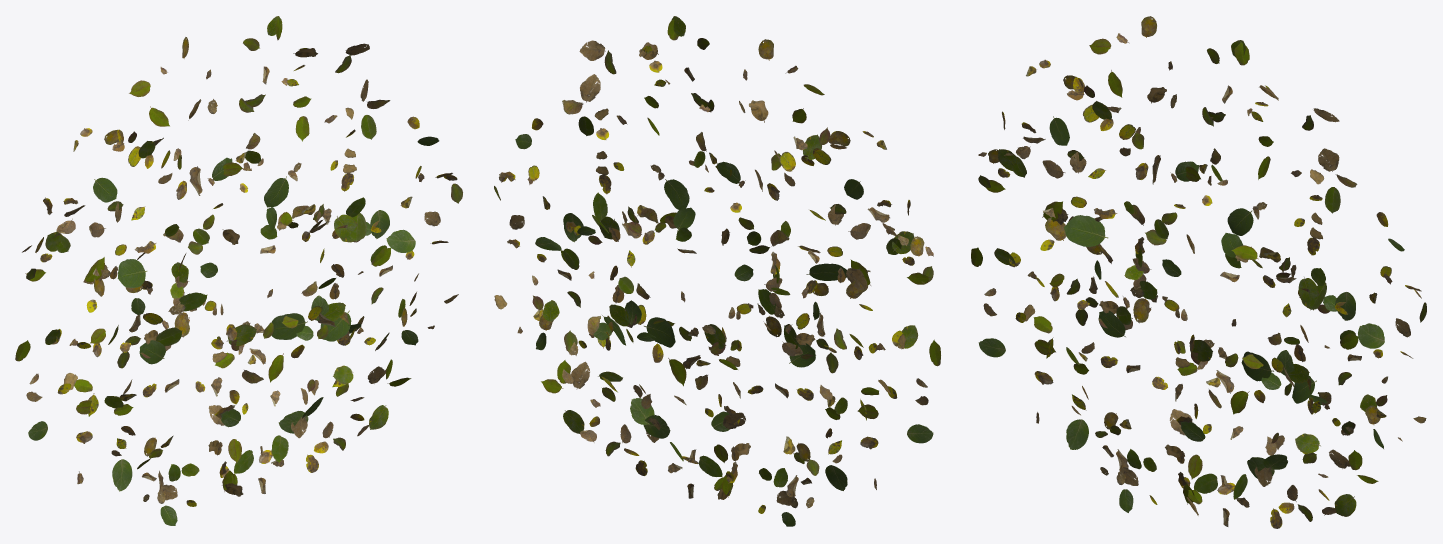
File: Leaf_Pile_02_Var1_LOD2.fbx
The picture shows the model from 3 angles, left to right: view 1: azimuth 30°, elevation 25°; view 2: azimuth 150°, elevation 25°; view 3: azimuth 330°, elevation 25°; orthographic projection. The views are drawn at different scales.
Parts seen in each view (by area): view 1: Var1_LOD2; view 2: Var1_LOD2; view 3: Var1_LOD2.
Part boxes in pixels (x1,y1,x2,y2): Var1_LOD2: (15,16,462,525); Var1_LOD2: (494,16,940,526); Var1_LOD2: (971,16,1426,528).
Size of the model in its own units: 165 by 172 by 8.92.
